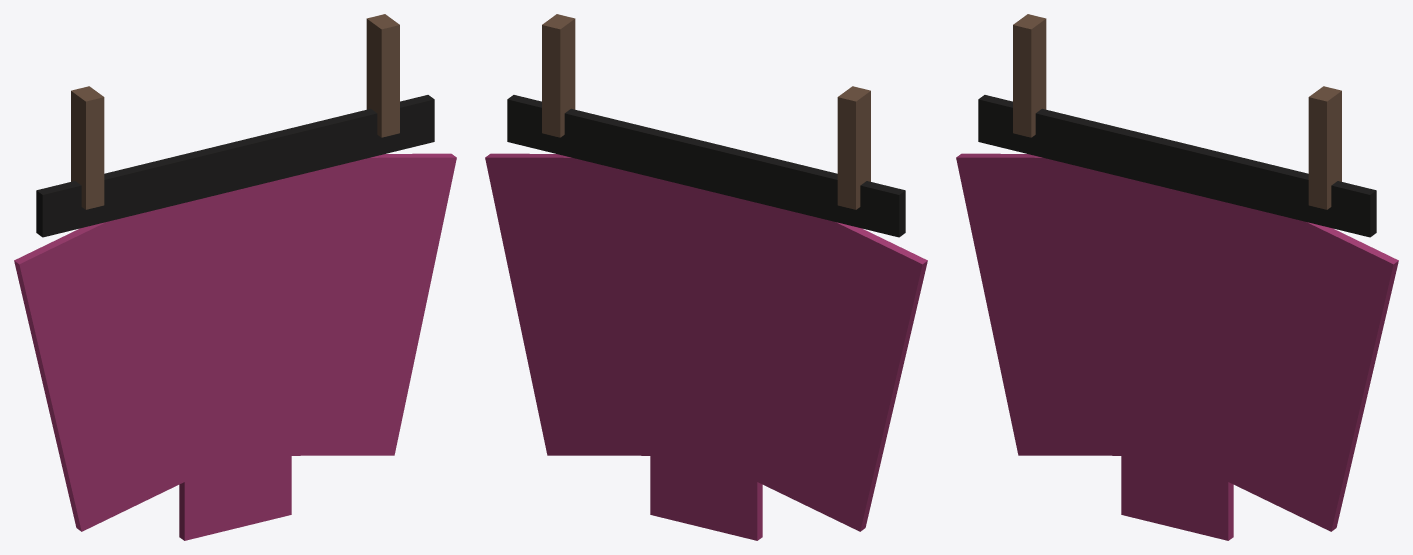
File: knickers-line-vibe.glb
3 renders of one model, left to right at view 1: azimuth 30°, elevation 25°; view 2: azimuth 150°, elevation 25°; view 3: azimuth 330°, elevation 25°, orthographic.
Visible parts, largest first — view 1: accent-magenta, rubber, wood; view 2: accent-magenta, rubber, wood; view 3: accent-magenta, rubber, wood.
Part boxes in pixels (x1,y1,x2,y2): accent-magenta: (14, 153, 456, 540); rubber: (36, 95, 434, 237); wood: (71, 14, 399, 209); accent-magenta: (485, 153, 927, 540); rubber: (507, 95, 905, 237); wood: (542, 14, 870, 209); accent-magenta: (956, 153, 1398, 540); rubber: (978, 95, 1376, 237); wood: (1013, 14, 1341, 209).
Bounding box in the file's own units: 0.2367 × 0.242 × 0.014.
